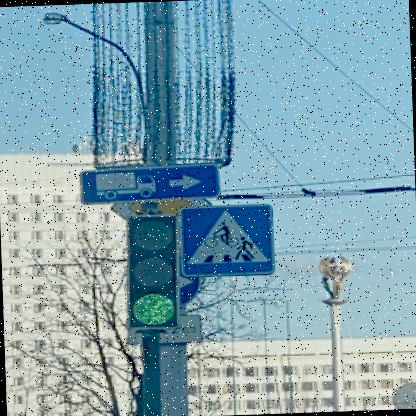crosswalk: (176, 202, 275, 277)
trafficlight: (121, 212, 177, 328)
